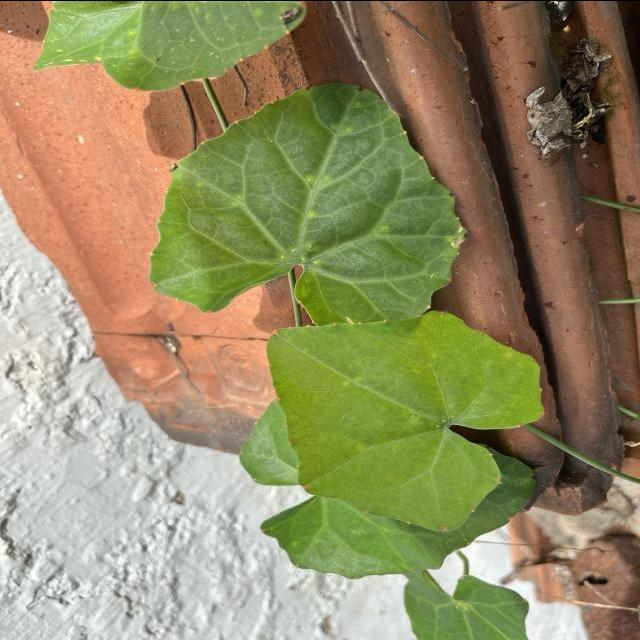Coccinia grandis: (146, 80, 470, 327), (262, 309, 548, 531)
